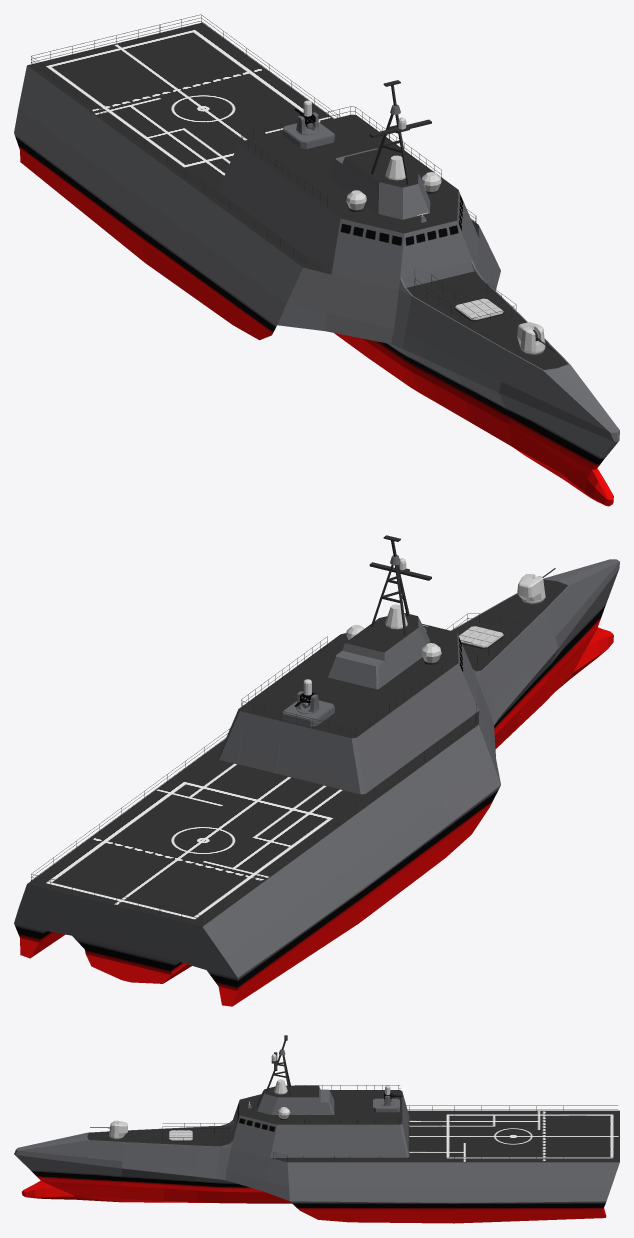
3 renders of one model, top to bottom at view 1: azimuth 30°, elevation 25°; view 2: azimuth 150°, elevation 25°; view 3: azimuth 270°, elevation 25°, orthographic. The views are drawn at different scales.
Visible parts, largest first — view 1: Cube, Circle; view 2: Cube, Cube.004, Cube.003, Circle; view 3: Cube, Circle.
Part boxes in pixels (<box>): Cube: <box>14,14,619,506</box>; Circle: <box>517,322,545,353</box>; Cube: <box>14,535,619,1006</box>; Cube.004: <box>277,738,343,789</box>; Cube.003: <box>238,729,276,772</box>; Circle: <box>517,574,545,602</box>; Cube: <box>14,1035,619,1223</box>; Circle: <box>109,1120,127,1138</box>.
Size of the model in its own units: 3246 by 3743 by 12534.
